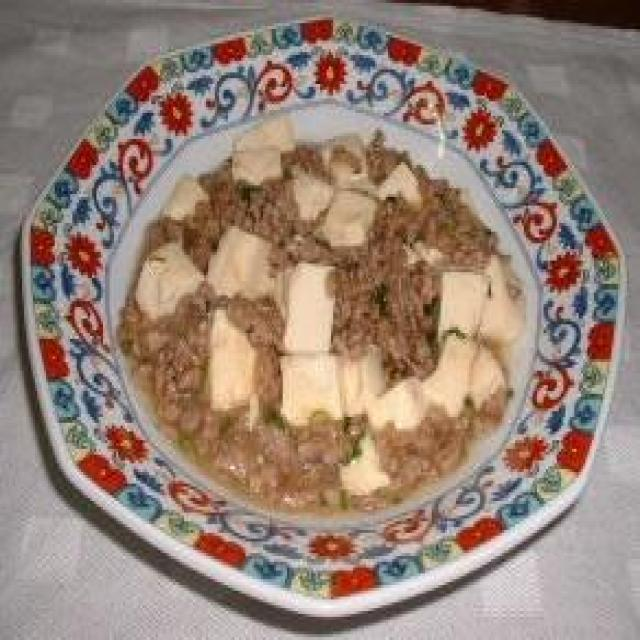豆腐料理: (4, 0, 622, 628)
